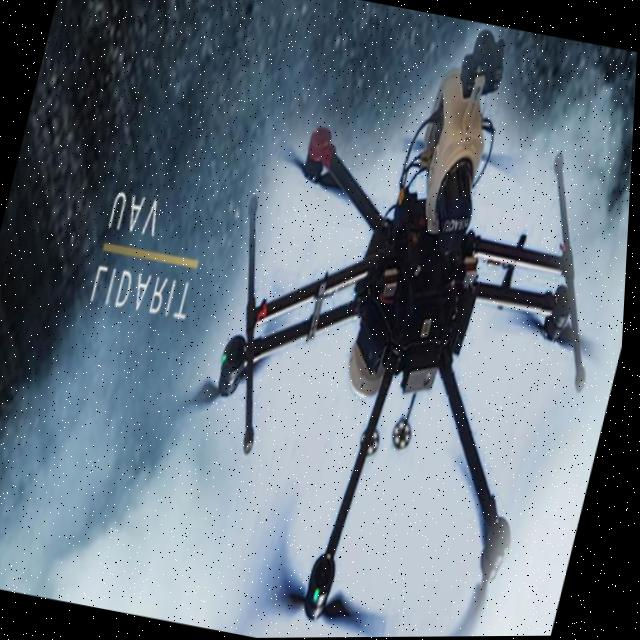drones: (139, 0, 640, 639)
